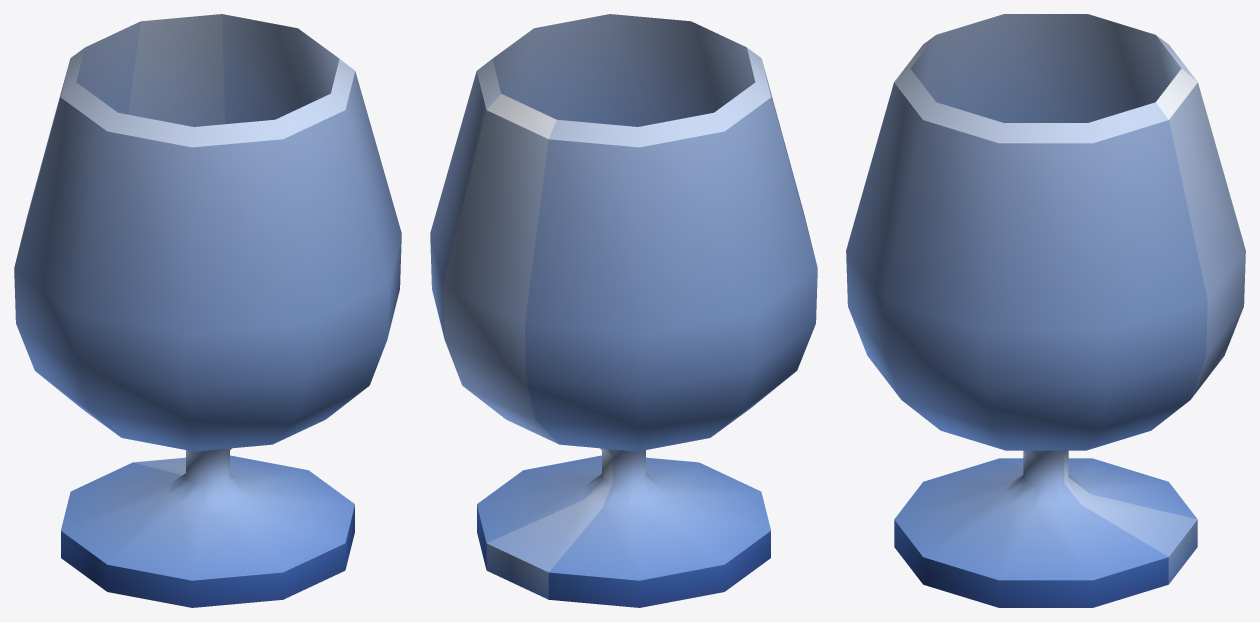
File: m_Brandy01.fbx
3 renders of one model, left to right at view 1: azimuth 30°, elevation 25°; view 2: azimuth 150°, elevation 25°; view 3: azimuth 270°, elevation 25°, orthographic.
Visible parts, largest first — view 1: m_Brandy01; view 2: m_Brandy01; view 3: m_Brandy01.
Boxes of the visible parts, bbox=[...] form: m_Brandy01: bbox=[14, 14, 401, 607]; m_Brandy01: bbox=[430, 14, 817, 607]; m_Brandy01: bbox=[846, 14, 1245, 607].
Size of the model in its own units: 12.53 by 17.39 by 13.17.
